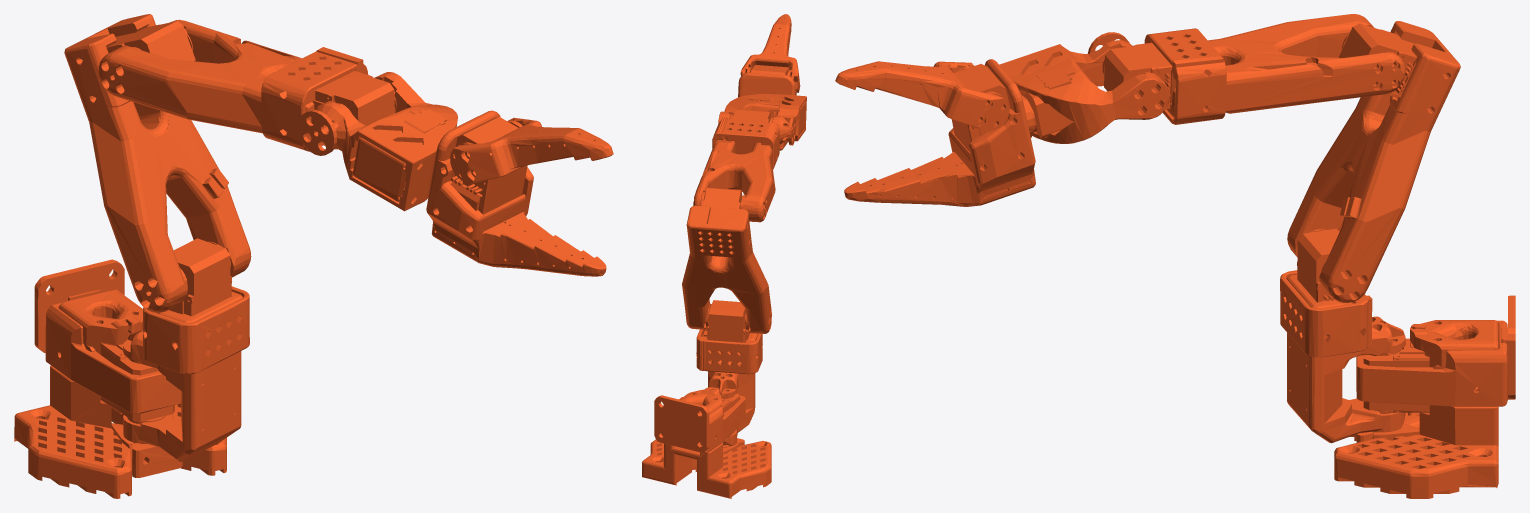
Rendered from lerobot.v2.glb.
3 renders of one model, left to right at view 1: azimuth 30°, elevation 25°; view 2: azimuth 150°, elevation 25°; view 3: azimuth 270°, elevation 25°, orthographic. The views are drawn at different scales.
Parts seen in each view (by area): view 1: so-arm100; view 2: so-arm100; view 3: so-arm100.
Boxes of the visible parts, x1,y1,x2,y2 form: so-arm100: [14, 14, 613, 498]; so-arm100: [642, 14, 806, 498]; so-arm100: [835, 14, 1515, 498].
Bounding box in the file's own units: 0.1636 × 0.2724 × 0.3597.
